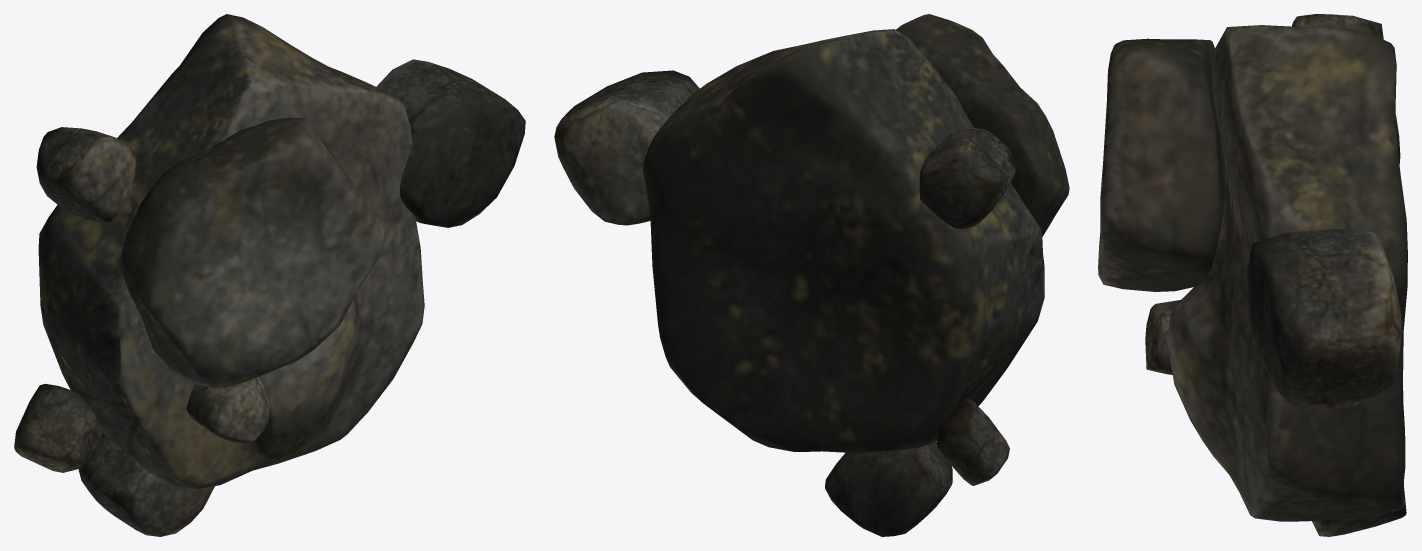
The model's file is rock_cluster_02.obj.
3 renders of one model, left to right at view 1: azimuth 30°, elevation 25°; view 2: azimuth 150°, elevation 25°; view 3: azimuth 270°, elevation 25°, orthographic. The views are drawn at different scales.
Visible parts, largest first — view 1: rock_cluster_02; view 2: rock_cluster_02; view 3: rock_cluster_02.
Part boxes in pixels (box(x1,y1,x2,y2)): rock_cluster_02: box(14, 14, 525, 536); rock_cluster_02: box(554, 14, 1069, 536); rock_cluster_02: box(1098, 14, 1407, 536).
Bounding box in the file's own units: 8 × 7.72 × 3.98.
Materials: 1 (1 with a texture image).
